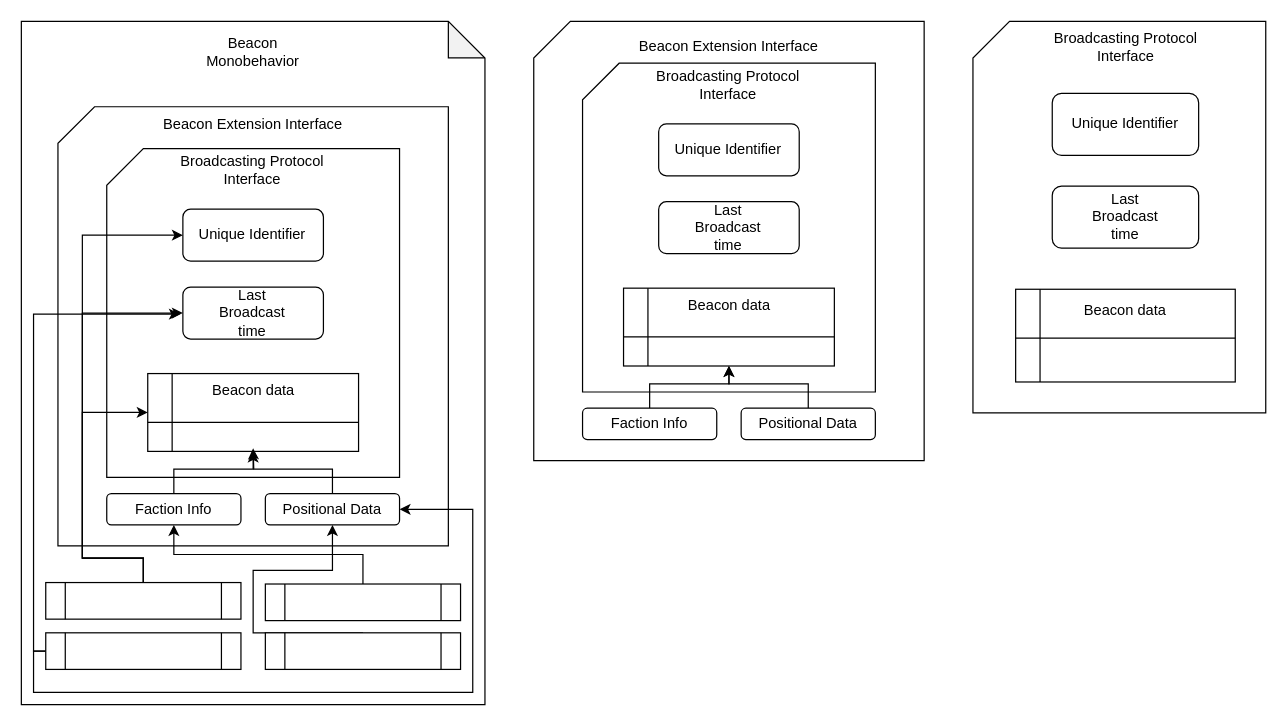
Image size: 1287x726. Some labels were removed from this diagram. Each missing label, with the centre of its shape:
"Broadcast Data" goes at point (143, 600).
"Distance Reporter" goes at point (362, 650).
"Faction Comparison" goes at point (362, 602).
"Update Data" goes at point (143, 650).
